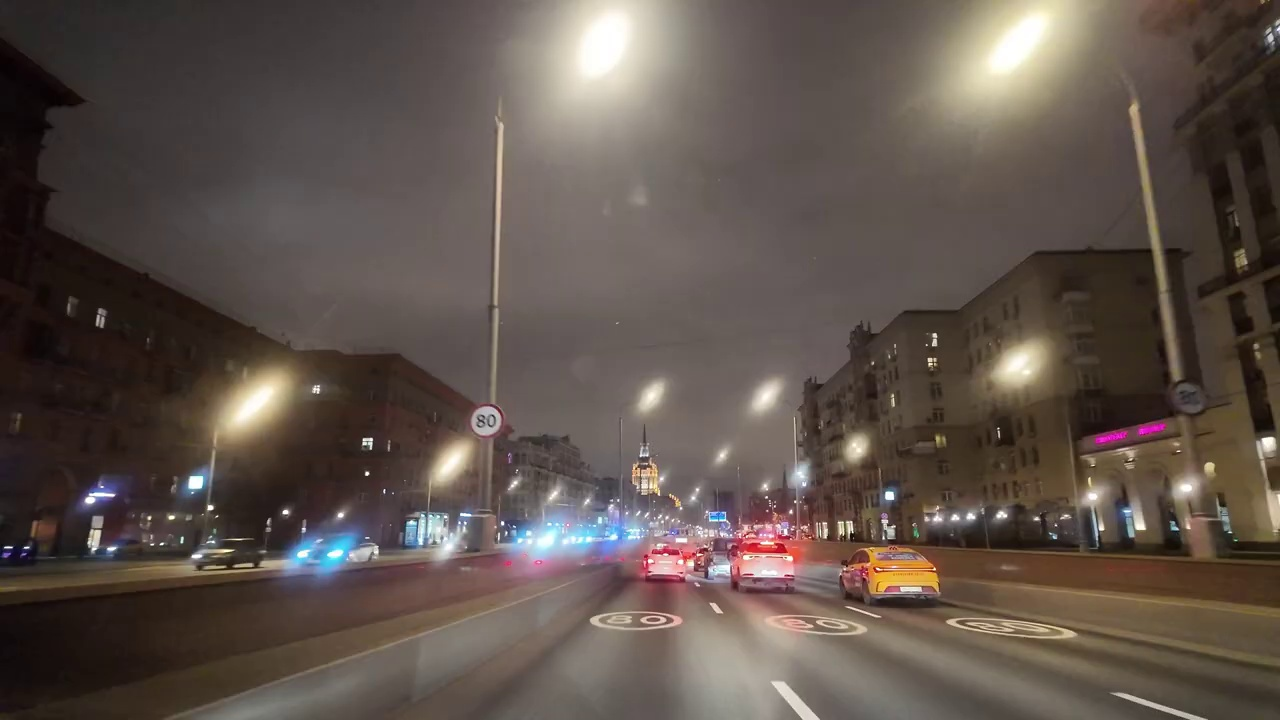acesa: (977, 9, 1070, 85), (567, 11, 641, 86), (225, 376, 287, 433), (994, 342, 1044, 390), (432, 444, 471, 485), (746, 379, 784, 421), (632, 379, 670, 421)
